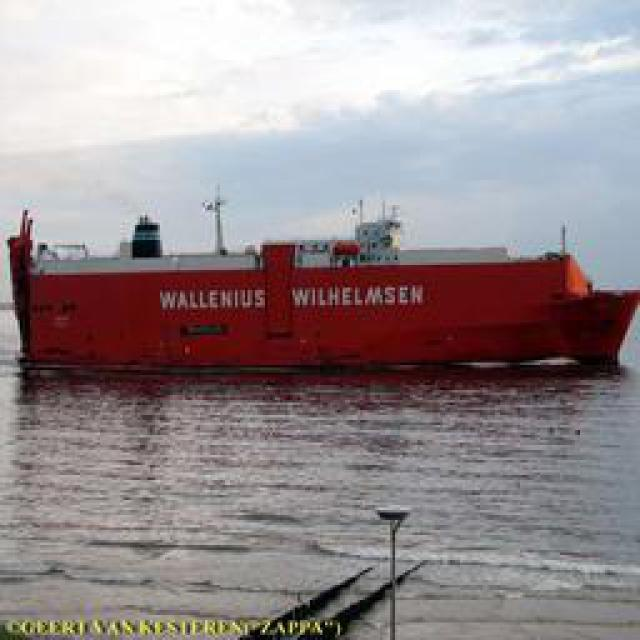Ship: (7, 196, 637, 366)
